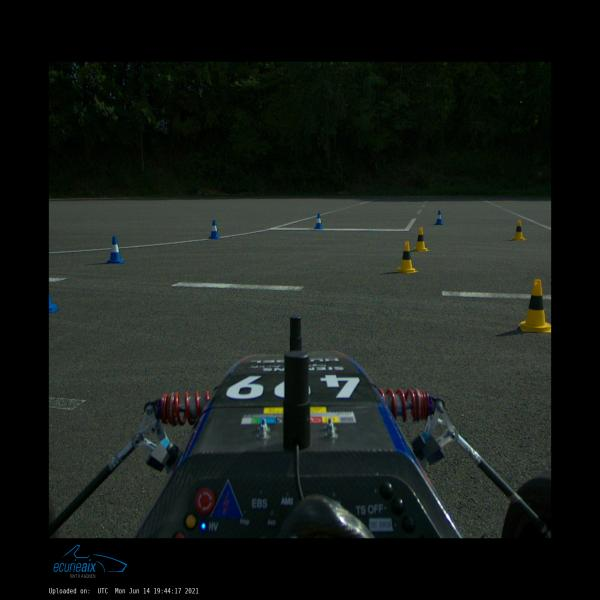blue_cone: (106, 236, 125, 263), (49, 290, 60, 314), (208, 220, 221, 239), (314, 213, 323, 229), (434, 210, 444, 224)
yellow_cone: (520, 280, 551, 332), (395, 241, 418, 274), (412, 228, 429, 251), (511, 220, 526, 241)
